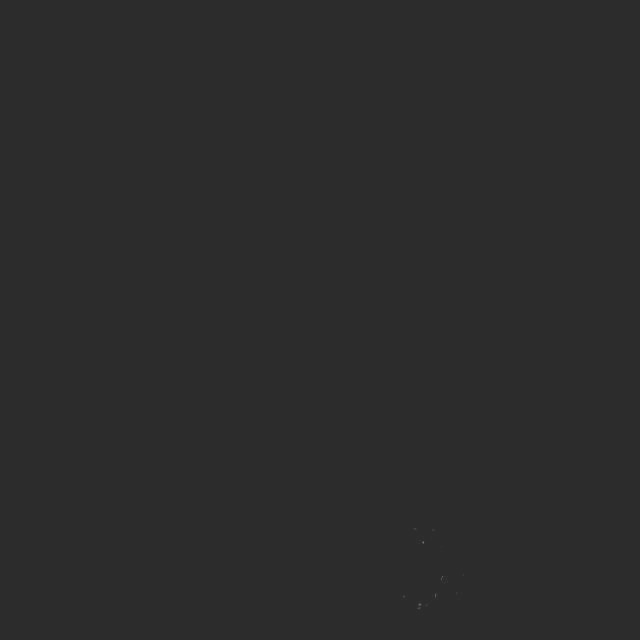satellite: (392, 524, 469, 632)
